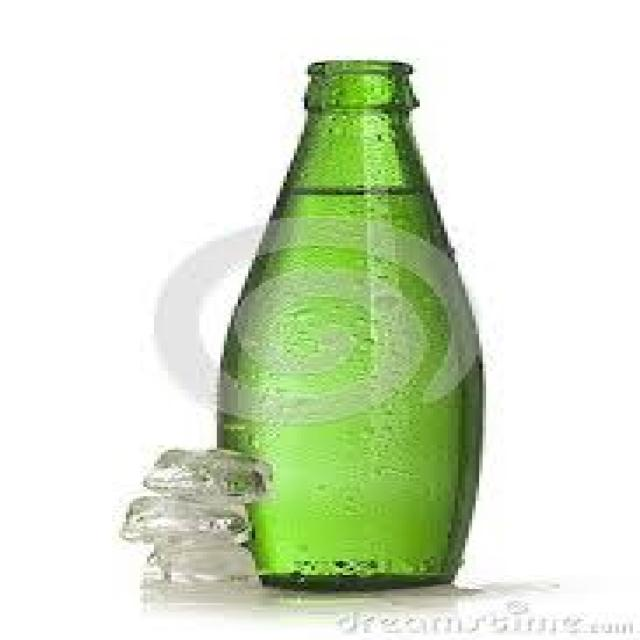glass: (213, 60, 472, 594)
